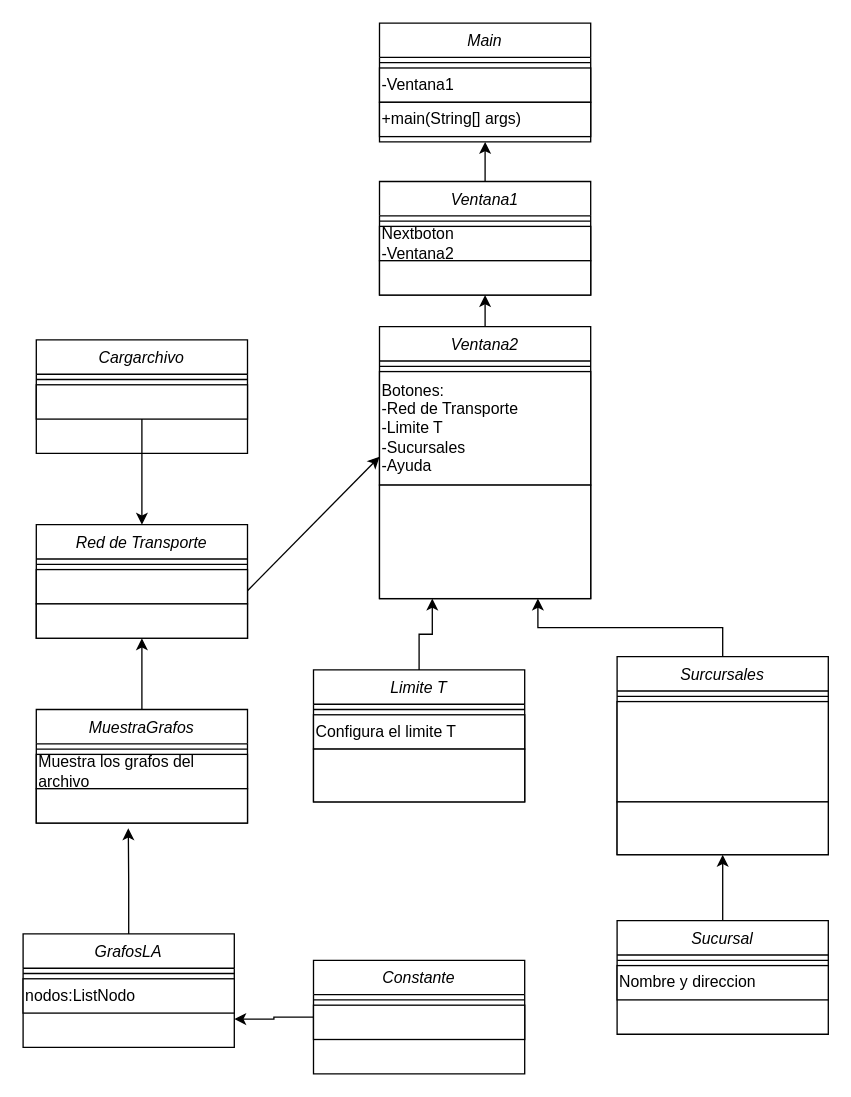
Some shapes in this 851 by 1097 pixel diagram are drawn without their labels. The shapes that lost their labels are listed below. From the top down, each one's centre as x and y in pixels, then its label:
At (484,277): "+Ventana2()".
At (141,401): "Lee el archivo y lo sube".
At (484,541): "-Red de Transporte() -Limite T() -Sucursales() -Ayuda()".
At (141,586): "Cargadatos".
At (141,620): "+Cargararchivo() +Mostrargrafos()".
At (722,751): "Botones Colocar Sucursales Ver cobertura Revisar Sucursales".
At (418,775): "Establece y confirma el limite T".
At (141,805): "Crea los grafos".
At (722,828): "Mostrargrafos() Coloca los sucursales".
At (418,1022): "Grafo = null".
